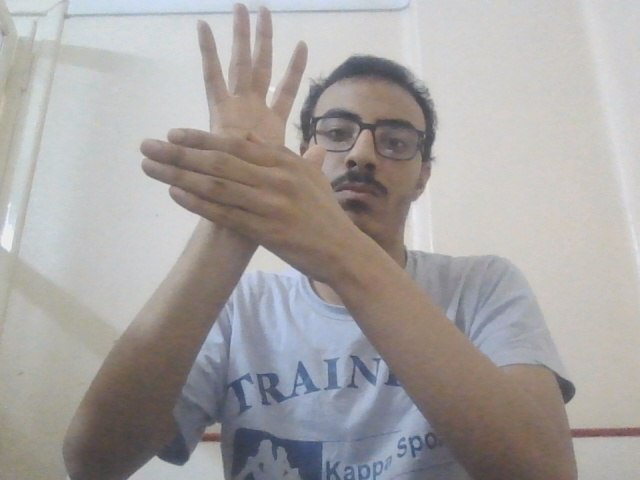Movie: (135, 2, 355, 274)
